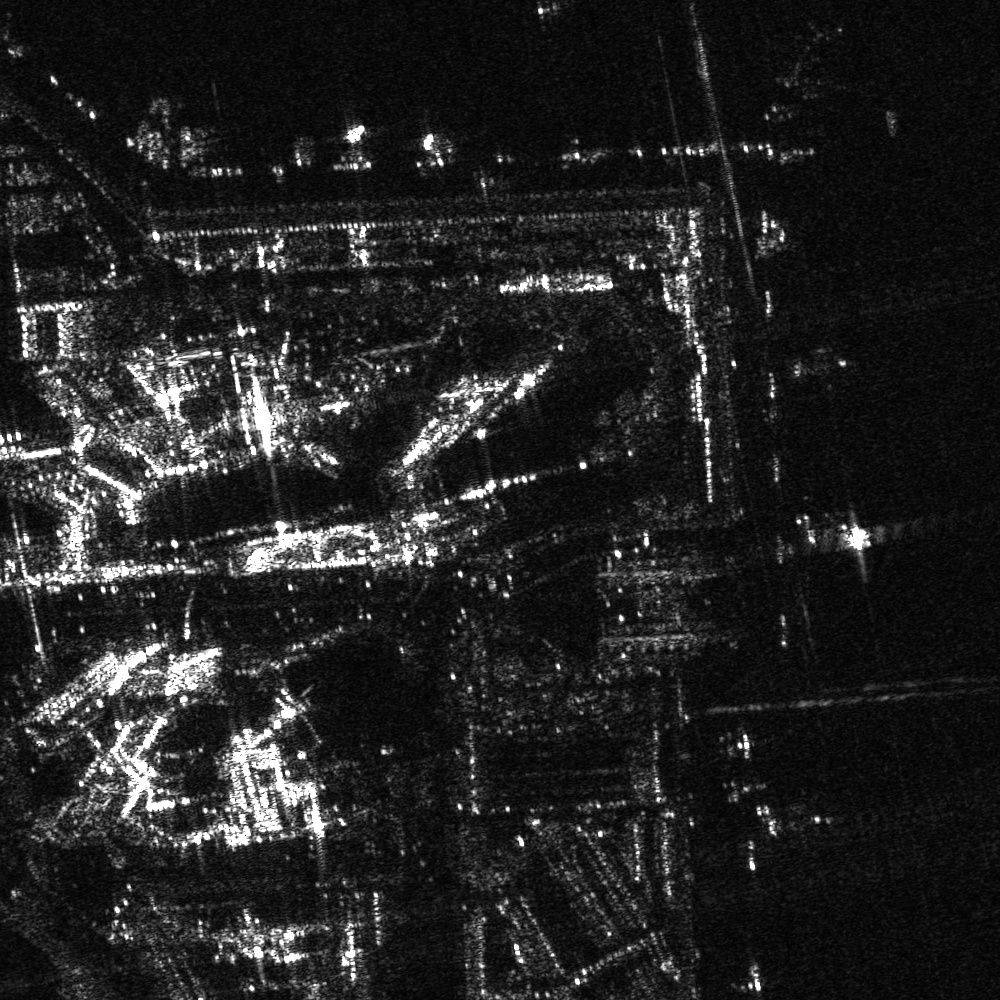A220: (779, 328, 857, 392), (711, 730, 771, 764), (735, 963, 780, 999), (745, 800, 782, 840)
other: (718, 778, 775, 804)
